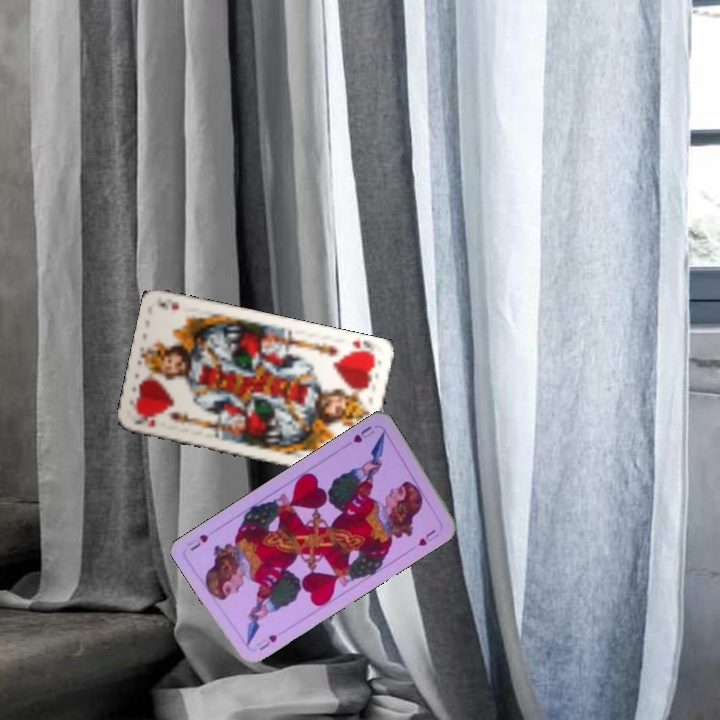HK: (346, 335, 378, 360), (132, 413, 158, 431)
HU: (349, 422, 377, 446), (255, 630, 279, 653)
